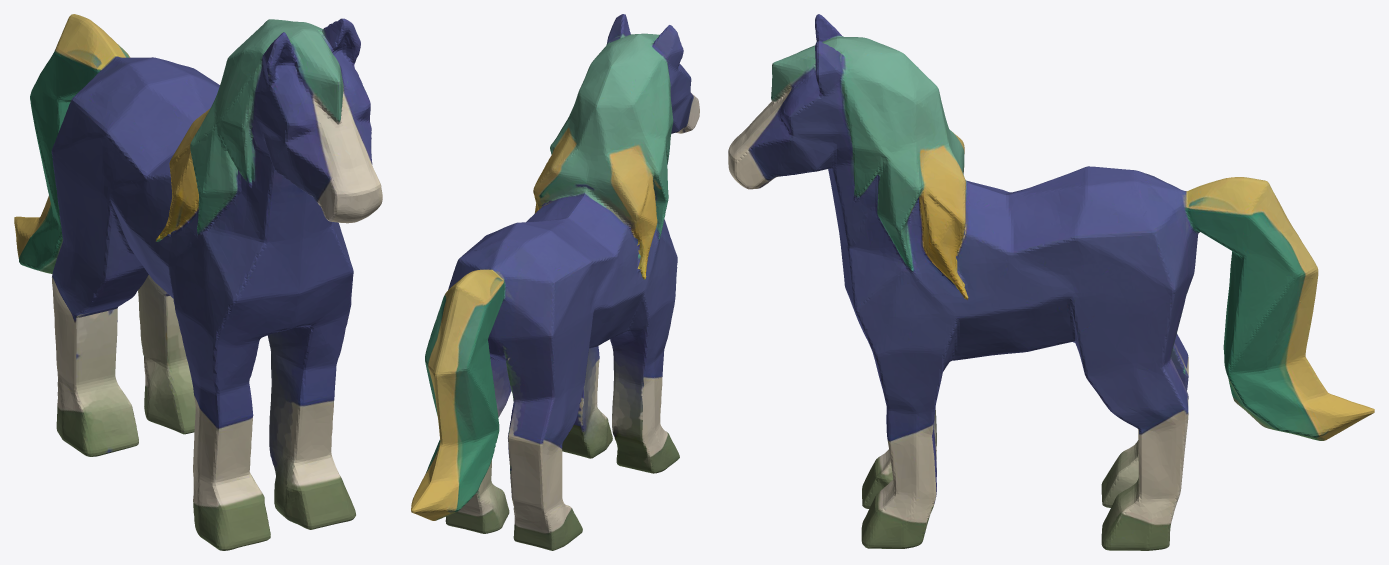
The model's file is horse_1772492621957.glb.
The picture shows the model from 3 angles, left to right: view 1: azimuth 30°, elevation 25°; view 2: azimuth 150°, elevation 25°; view 3: azimuth 270°, elevation 25°; orthographic projection. The views are drawn at different scales.
Visible parts, largest first — view 1: demo_textured.obj; view 2: demo_textured.obj; view 3: demo_textured.obj.
Boxes of the visible parts, x1,y1,x2,y2 form: demo_textured.obj: [14, 14, 382, 550]; demo_textured.obj: [411, 14, 699, 550]; demo_textured.obj: [728, 14, 1374, 550].
Size of the model in its own units: 0.5157 by 1.67 by 1.98.
1 material, 1 textured.
